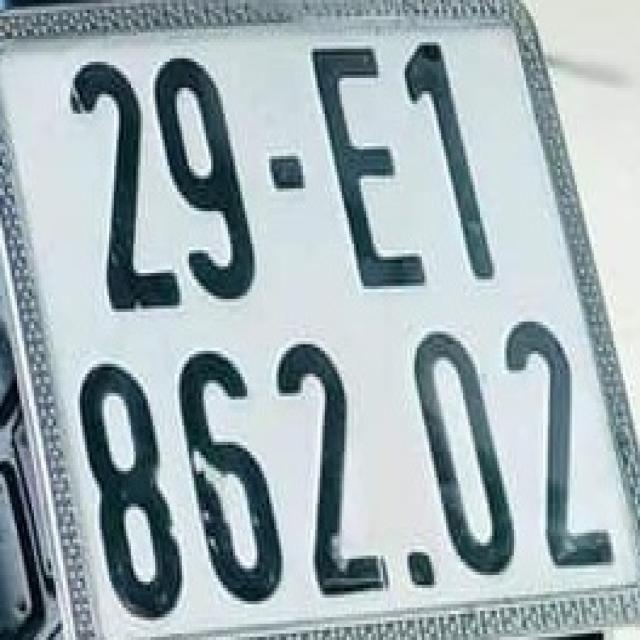0: (414, 325, 516, 581)
1: (405, 32, 504, 286)
2: (273, 322, 394, 594), (65, 49, 182, 315), (504, 316, 616, 576)
6: (177, 340, 281, 609)
8: (75, 344, 187, 624)
9: (155, 42, 262, 309)
Z: (308, 36, 431, 296)
